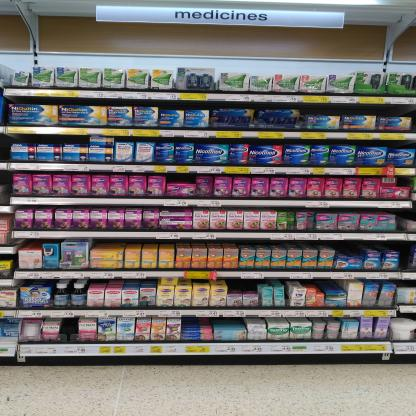Void: (15, 137, 86, 144), (166, 174, 197, 184), (400, 243, 411, 270), (340, 240, 360, 254), (64, 321, 78, 339), (230, 280, 256, 288)
